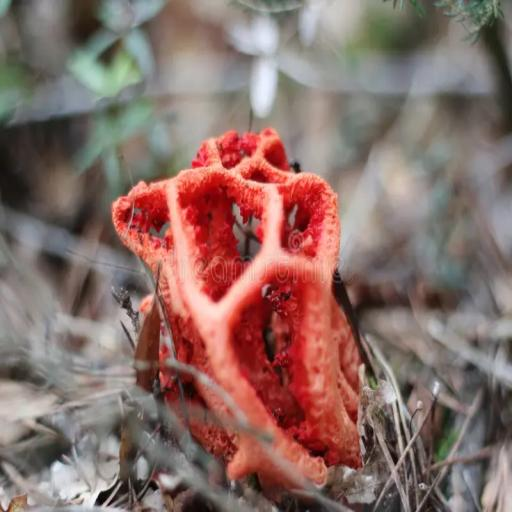Red Cage Fungus: (101, 110, 383, 512)
